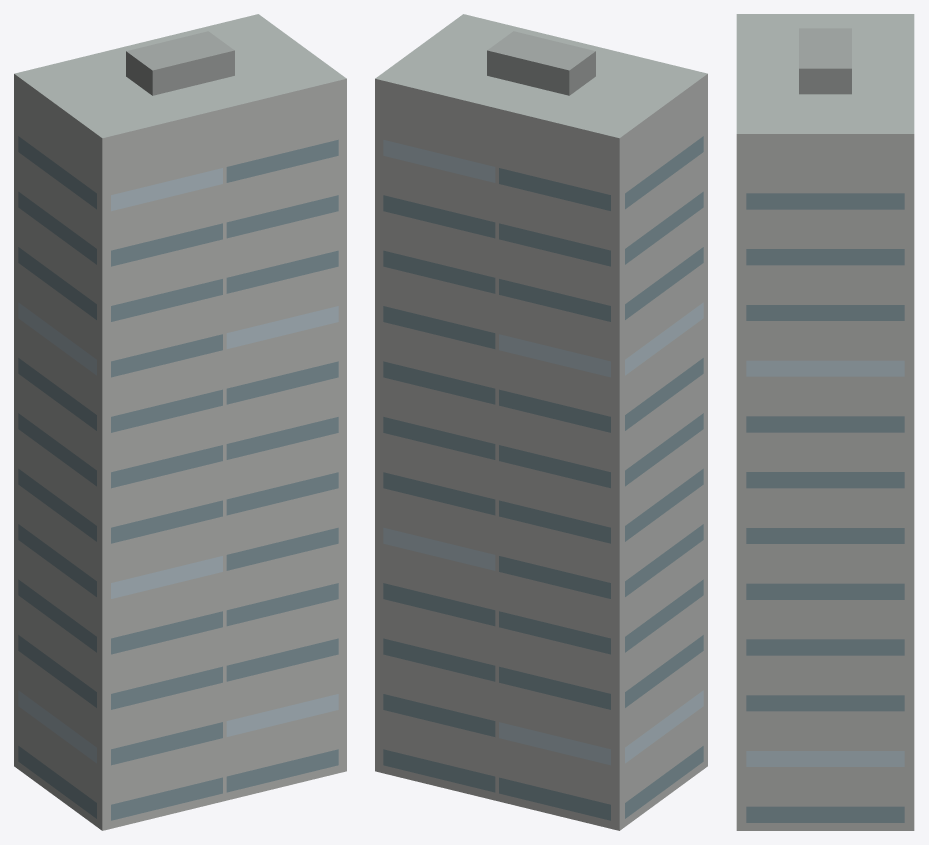
File: fallback-sk-bukhansan-city-104.glb
3 renders of one model, left to right at view 1: azimuth 30°, elevation 25°; view 2: azimuth 150°, elevation 25°; view 3: azimuth 270°, elevation 25°, orthographic.
Parts seen in each view (by area): view 1: fallback-sk-bukhansan-city-104; view 2: fallback-sk-bukhansan-city-104; view 3: fallback-sk-bukhansan-city-104.
Boxes of the visible parts, x1,y1,x2,y2 form: fallback-sk-bukhansan-city-104: (14, 14, 346, 830); fallback-sk-bukhansan-city-104: (375, 14, 707, 830); fallback-sk-bukhansan-city-104: (736, 14, 914, 830).
Bounding box in the file's own units: 24.32 × 68 × 15.26.
